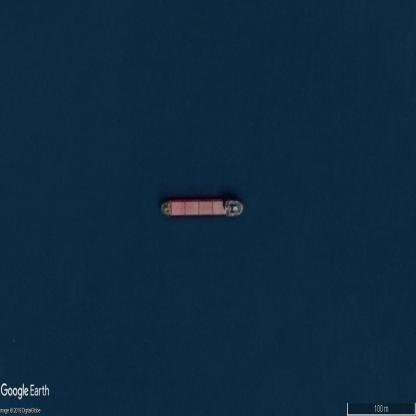ship: (160, 200, 244, 217)
